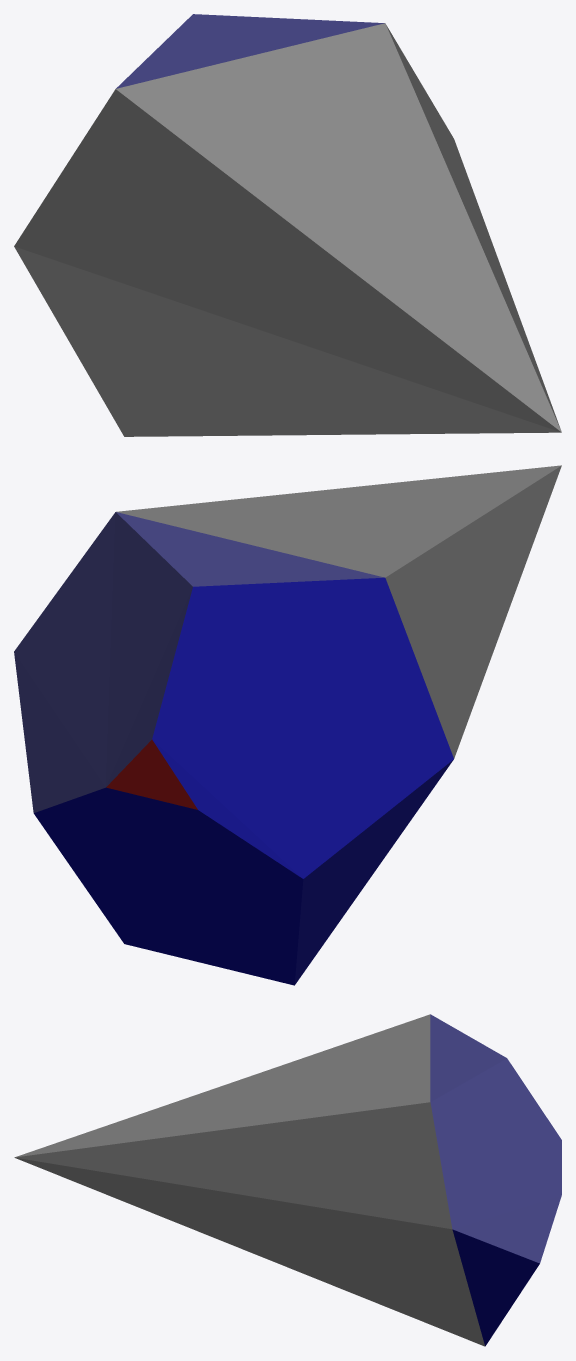
File: boa.obj
3 views of the same model, one above another, from view 1: azimuth 30°, elevation 25°; view 2: azimuth 150°, elevation 25°; view 3: azimuth 270°, elevation 25° (orthographic). The views are drawn at different scales.
Bounding box in the file's own units: 124 × 105 × 200.
